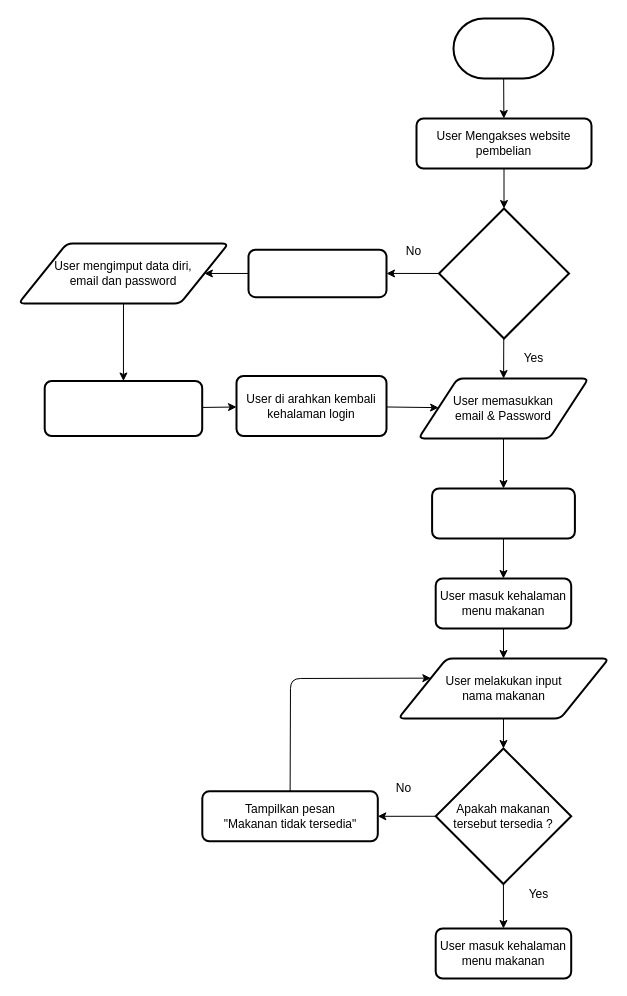
This 627x996 diagram has some shape labels left out. Each missing label, with the centre of its shape:
"Apakah user mempunyai akun" goes at (504,273).
"START" goes at (503,48).
"User menekan tombol create akun" goes at (123,408).
"User menekan tombol Login" goes at (503,513).
"User menekan tombol Registrasi akun" goes at (317,273).
